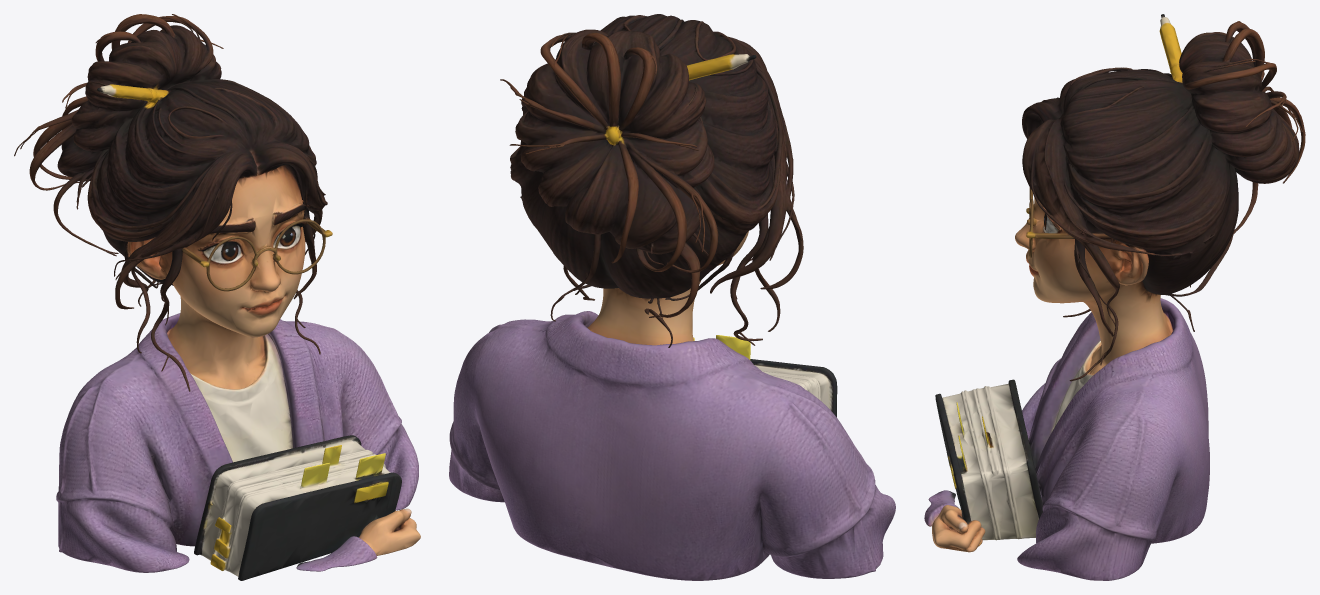
Rendered from intellectualizer.glb.
3 views of the same model, side by side, from view 1: azimuth 30°, elevation 25°; view 2: azimuth 150°, elevation 25°; view 3: azimuth 270°, elevation 25° (orthographic). The views are drawn at different scales.
Parts seen in each view (by area): view 1: tripo_node_c24cb06d-3297-4c4e-b6e8-d50240f7da3c; view 2: tripo_node_c24cb06d-3297-4c4e-b6e8-d50240f7da3c; view 3: tripo_node_c24cb06d-3297-4c4e-b6e8-d50240f7da3c.
Part boxes in pixels (left/top/right/bottom): tripo_node_c24cb06d-3297-4c4e-b6e8-d50240f7da3c: left=14, top=14, right=420, bottom=580; tripo_node_c24cb06d-3297-4c4e-b6e8-d50240f7da3c: left=449, top=14, right=895, bottom=580; tripo_node_c24cb06d-3297-4c4e-b6e8-d50240f7da3c: left=924, top=14, right=1305, bottom=580.
Size of the model in its own units: 0.7979 by 0.9999 by 0.756.
1 material, 1 textured.
